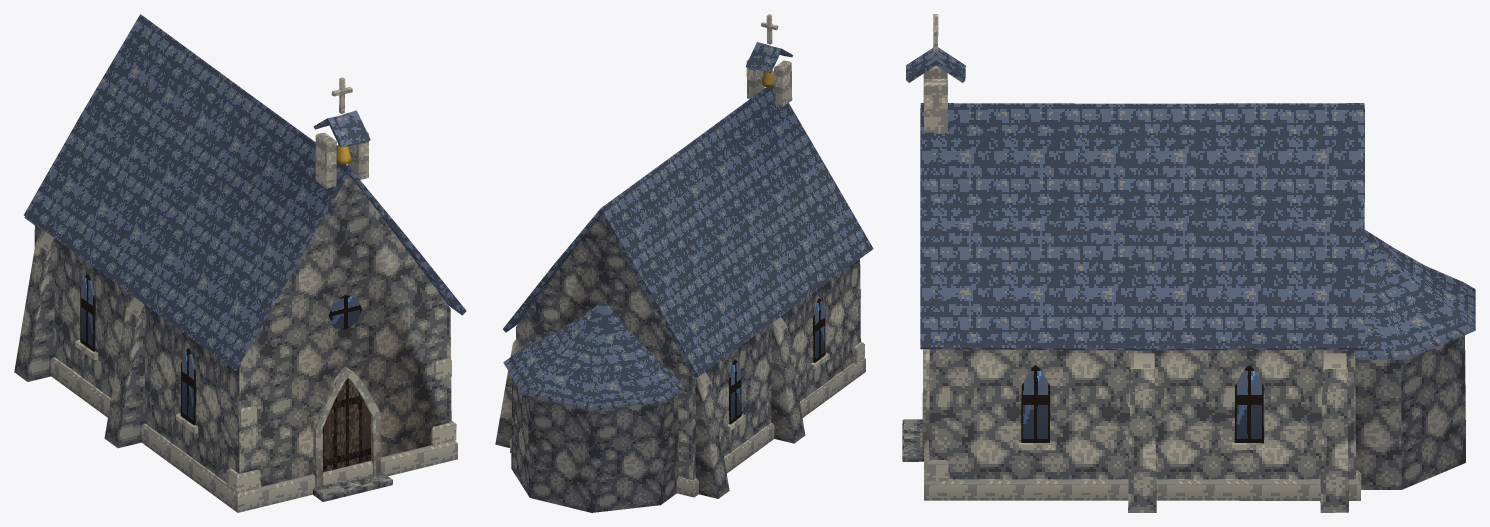
The model's file is vlg.chapel.glb.
3 renders of one model, left to right at view 1: azimuth 30°, elevation 25°; view 2: azimuth 150°, elevation 25°; view 3: azimuth 270°, elevation 25°, orthographic. The views are drawn at different scales.
Parts seen in each view (by area): view 1: kit_roof, kit_walls, kit_stonework, kit_fittings; view 2: kit_roof, kit_walls, kit_stonework, kit_fittings; view 3: kit_roof, kit_walls, kit_stonework, kit_fittings.
Boxes of the visible parts, x1,y1,x2,y2 form: kit_roof: [24, 14, 466, 370]; kit_walls: [34, 174, 451, 486]; kit_stonework: [14, 132, 457, 512]; kit_fittings: [75, 77, 392, 501]; kit_roof: [503, 42, 873, 410]; kit_walls: [511, 215, 860, 512]; kit_stonework: [495, 59, 865, 498]; kit_fittings: [727, 14, 829, 431]; kit_roof: [906, 47, 1475, 359]; kit_walls: [929, 335, 1465, 489]; kit_stonework: [923, 65, 1361, 512]; kit_fittings: [902, 14, 1269, 461].
Size of the model in its own units: 6.91 by 9.99 by 12.08.
7 materials, 6 textured.
